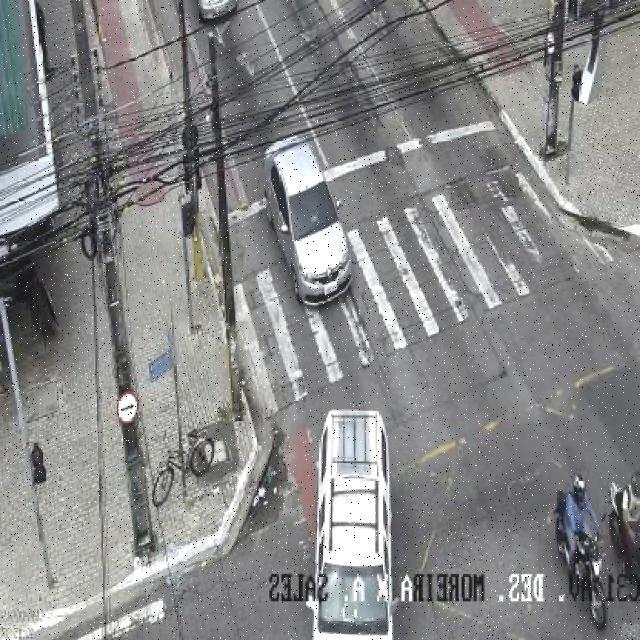Car: (305, 408, 401, 640), (262, 134, 354, 308)
Cycle: (554, 516, 610, 630), (150, 428, 216, 506)
